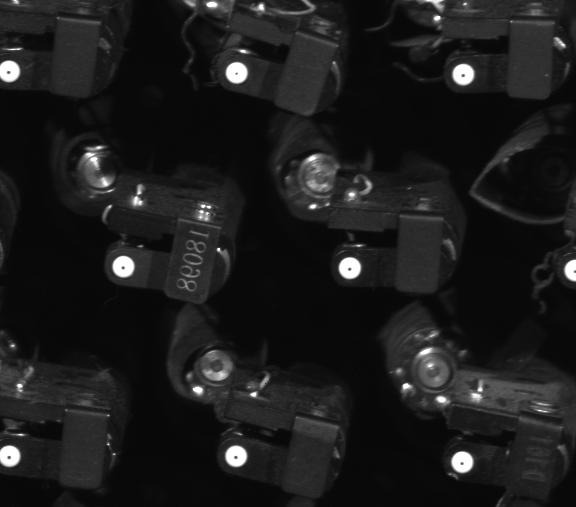fiber: (447, 58, 480, 92), (446, 446, 479, 480), (219, 58, 254, 88), (223, 441, 254, 472), (336, 253, 368, 283), (110, 251, 139, 283), (1, 440, 26, 473), (1, 53, 22, 88), (559, 256, 576, 286)
